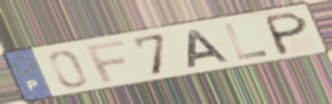0: (47, 49, 89, 90)
7: (131, 31, 172, 77)
A: (186, 27, 233, 70)
F: (83, 38, 128, 84)
L: (221, 22, 272, 62)
P: (264, 9, 310, 57)
